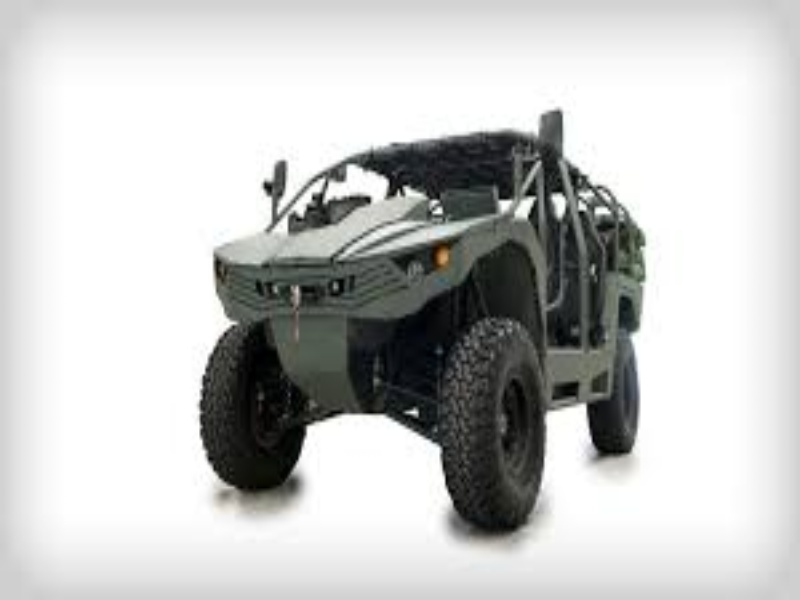jeep: (192, 108, 653, 540)
